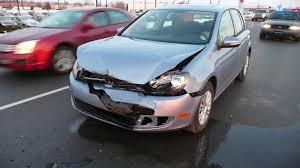bonnet-dent: (79, 37, 190, 83)
front-bumper-dent: (77, 88, 155, 127)
